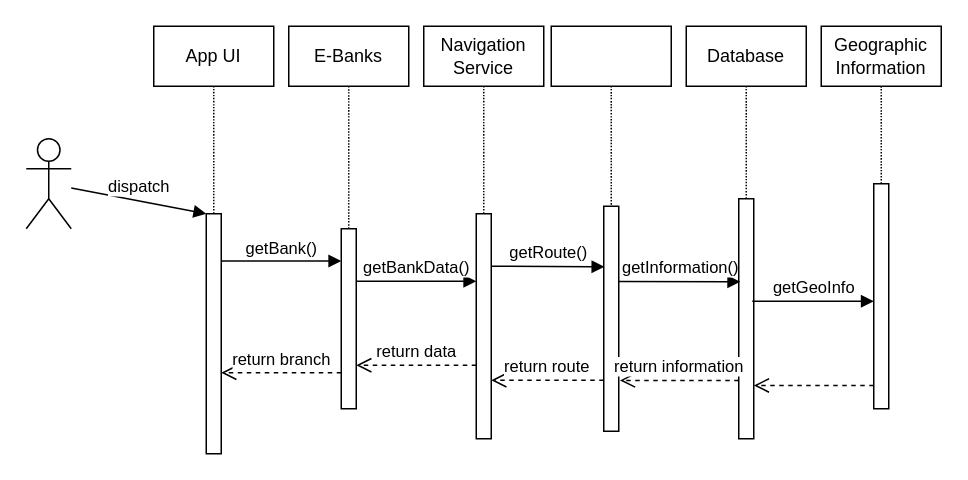
This 968x480 diagram has some shape labels left out. The shapes that lost their labels are listed below. From the top down, each one's box as (x1, y1, x2, y2) in pixels, then its label:
(550, 25, 671, 86): Route Finder
(25, 137, 71, 229): User
